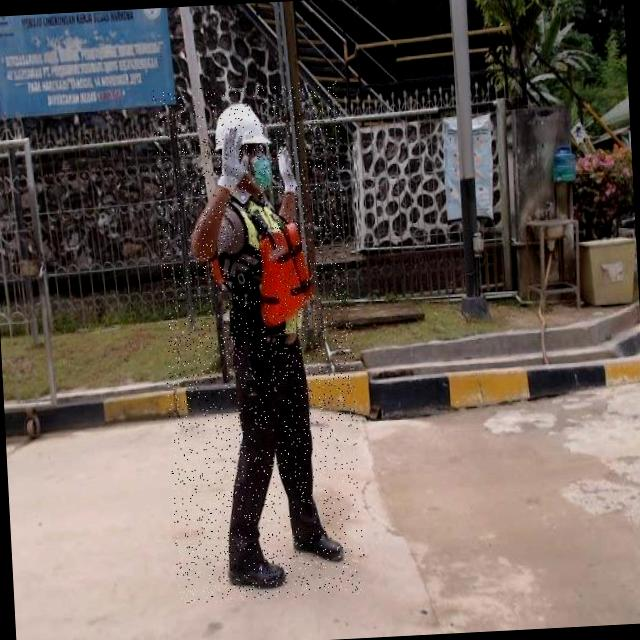boots: (226, 549, 289, 593), (290, 524, 346, 564)
gloves: (196, 124, 262, 205)
helmet: (212, 102, 270, 150)
vest: (218, 194, 313, 344)
